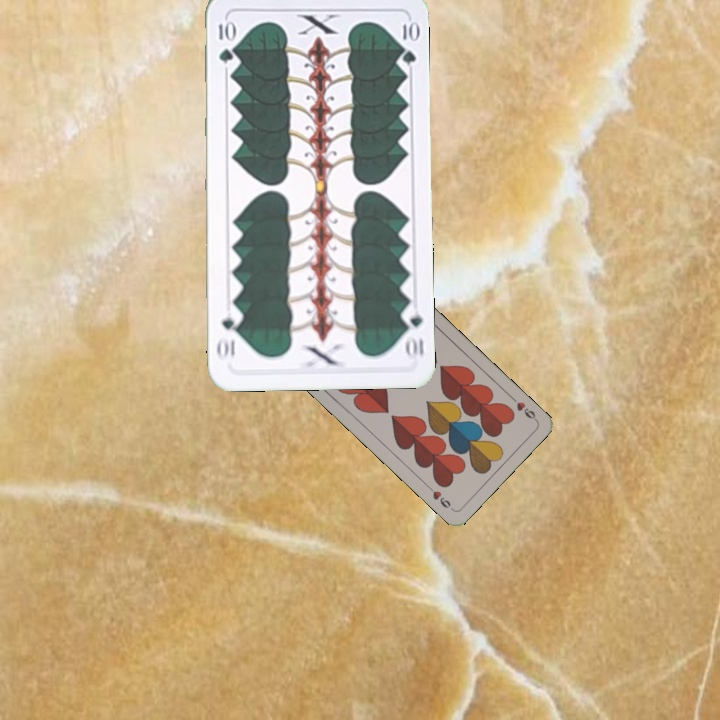G10: (399, 303, 427, 362), (214, 17, 235, 65)
H9: (506, 392, 540, 423)
